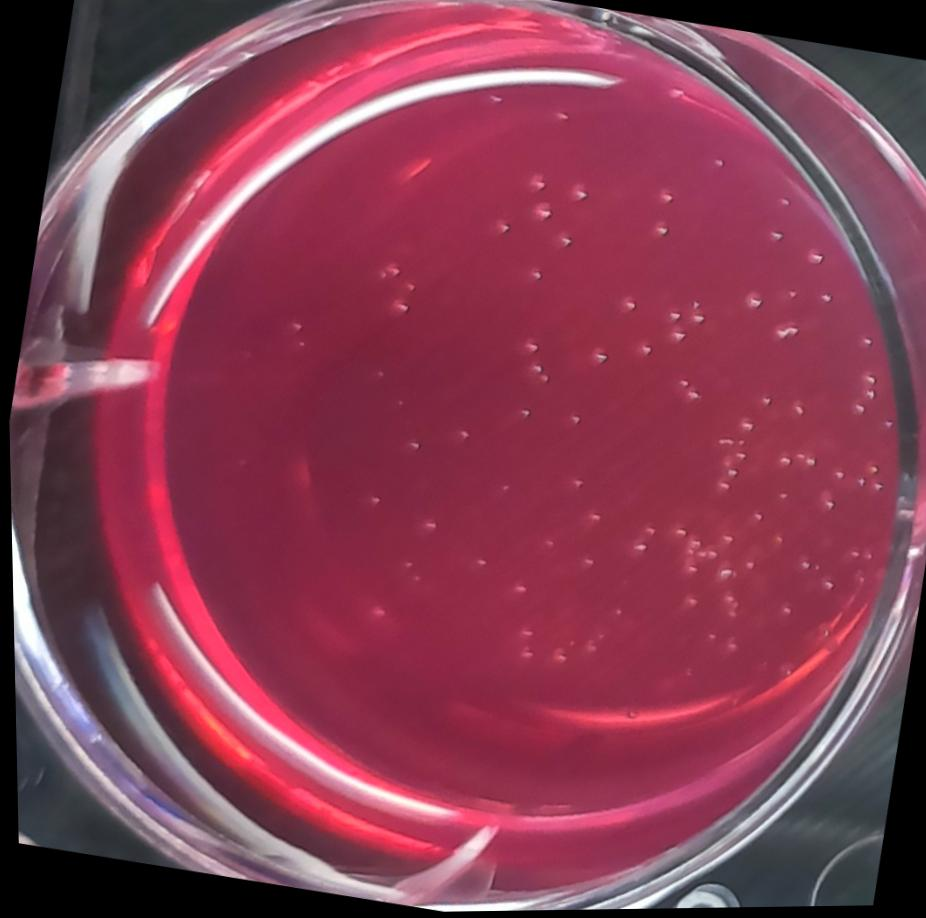bcereus: (562, 179, 595, 213)
